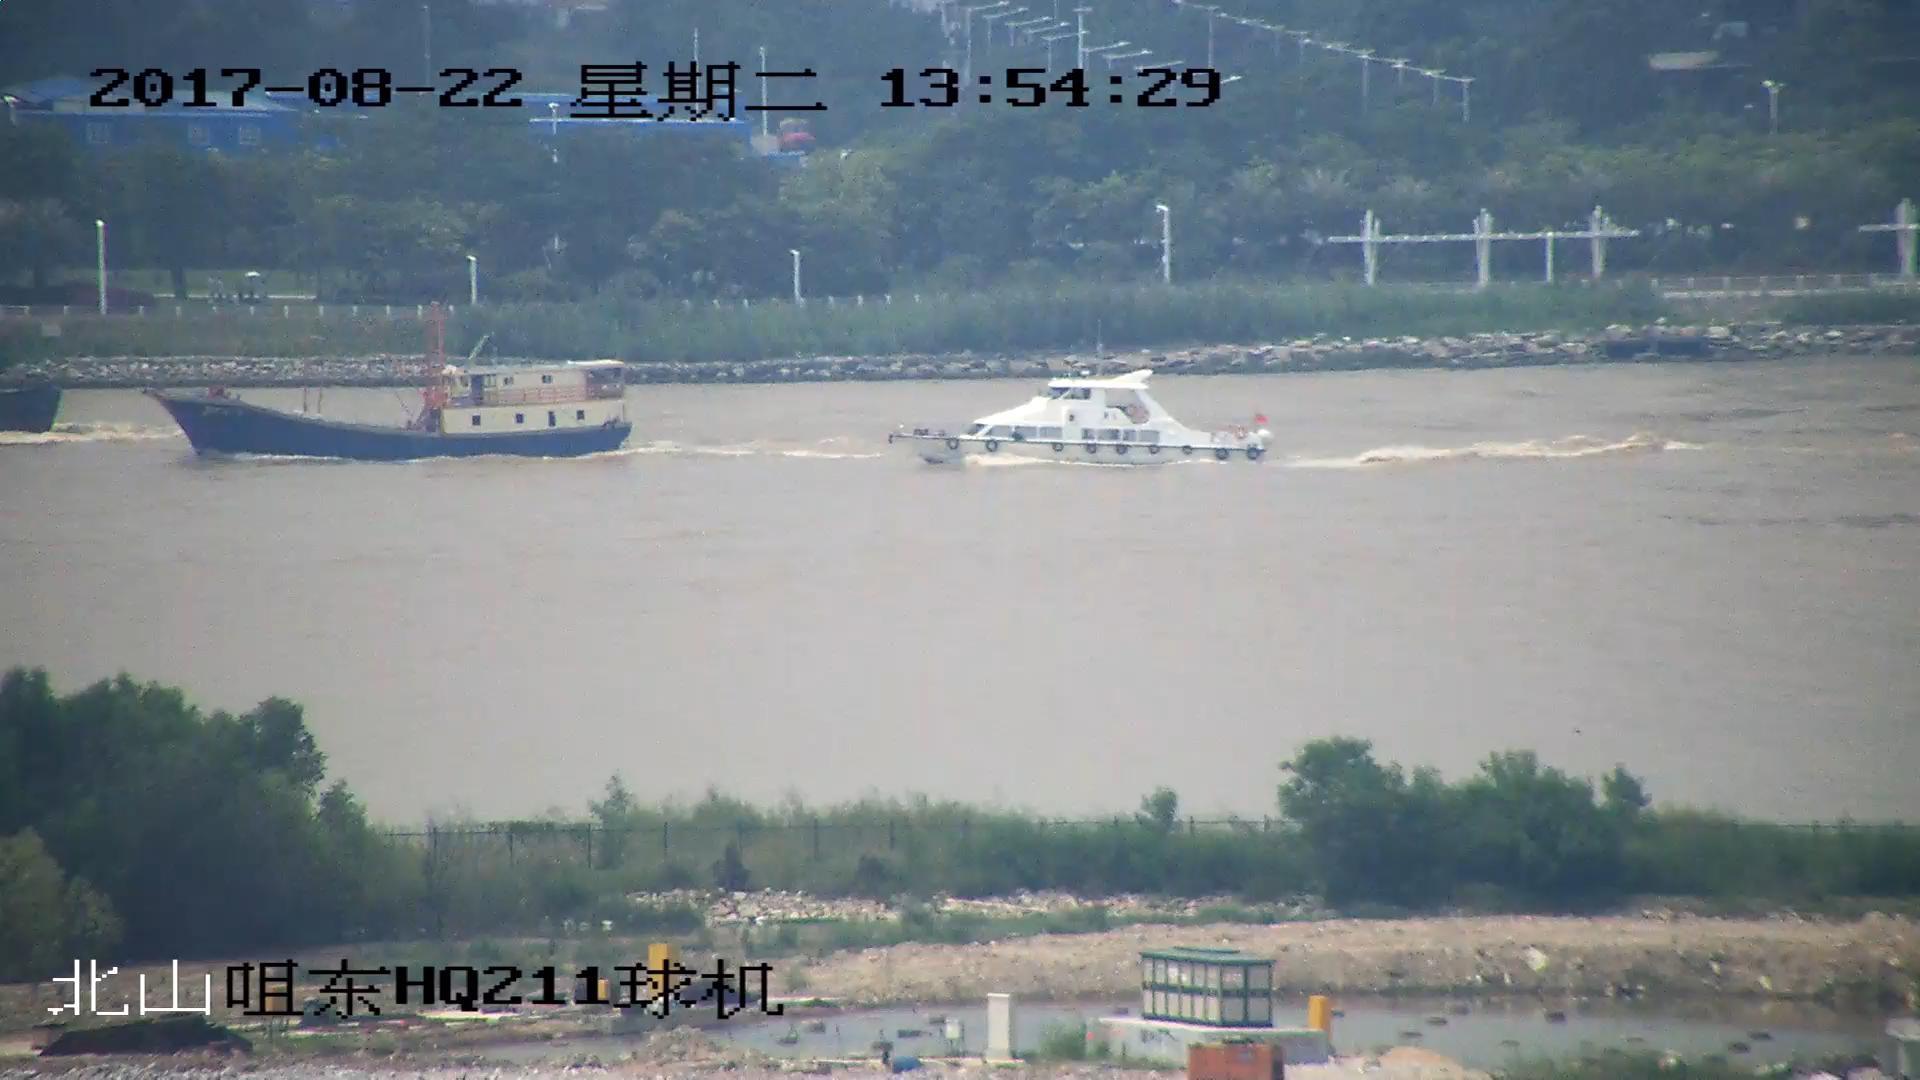fishing boat: (148, 307, 636, 461)
passenger ship: (892, 363, 1278, 473)
